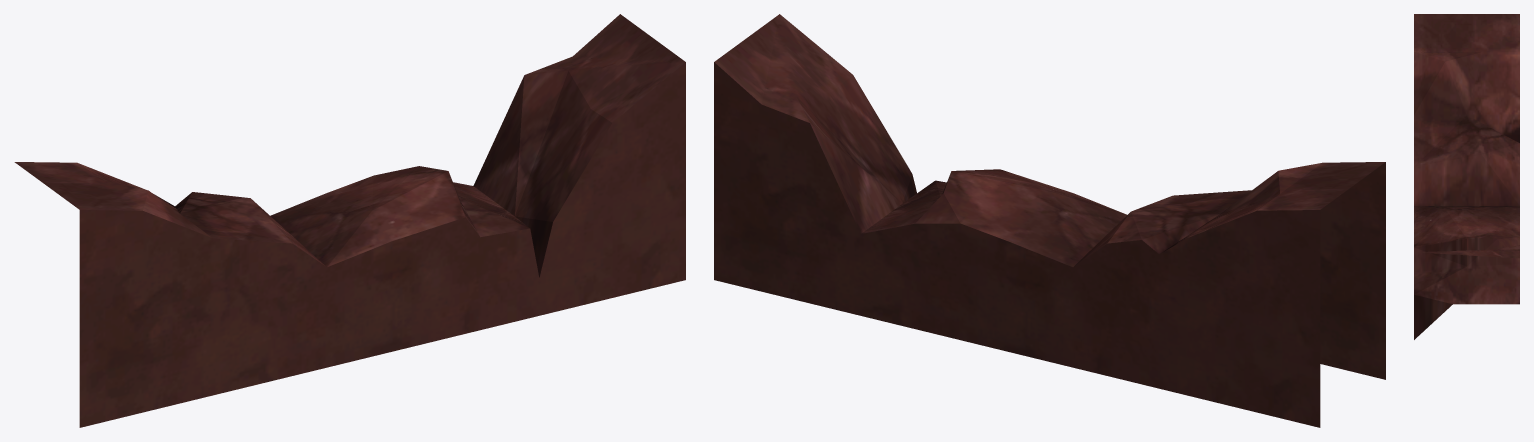
The model's file is lava_broken_straight_02.fbx.
3 views of the same model, side by side, from view 1: azimuth 30°, elevation 25°; view 2: azimuth 150°, elevation 25°; view 3: azimuth 270°, elevation 25° (orthographic). The views are drawn at different scales.
Parts seen in each view (by area): view 1: lava_broken_straight_02-0; view 2: lava_broken_straight_02-0; view 3: lava_broken_straight_02-0.
Boxes of the visible parts, x1=… form: lava_broken_straight_02-0: x1=14, y1=14, x2=685, y2=427; lava_broken_straight_02-0: x1=714, y1=14, x2=1385, y2=427; lava_broken_straight_02-0: x1=1414, y1=14, x2=1519, y2=339.
Bounding box in the file's own units: 4 × 1.38 × 0.75.
